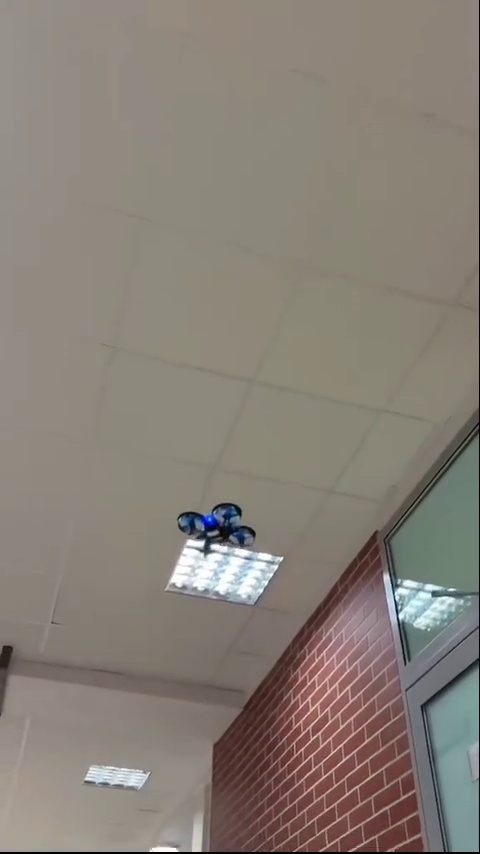drone: (173, 502, 256, 557)
